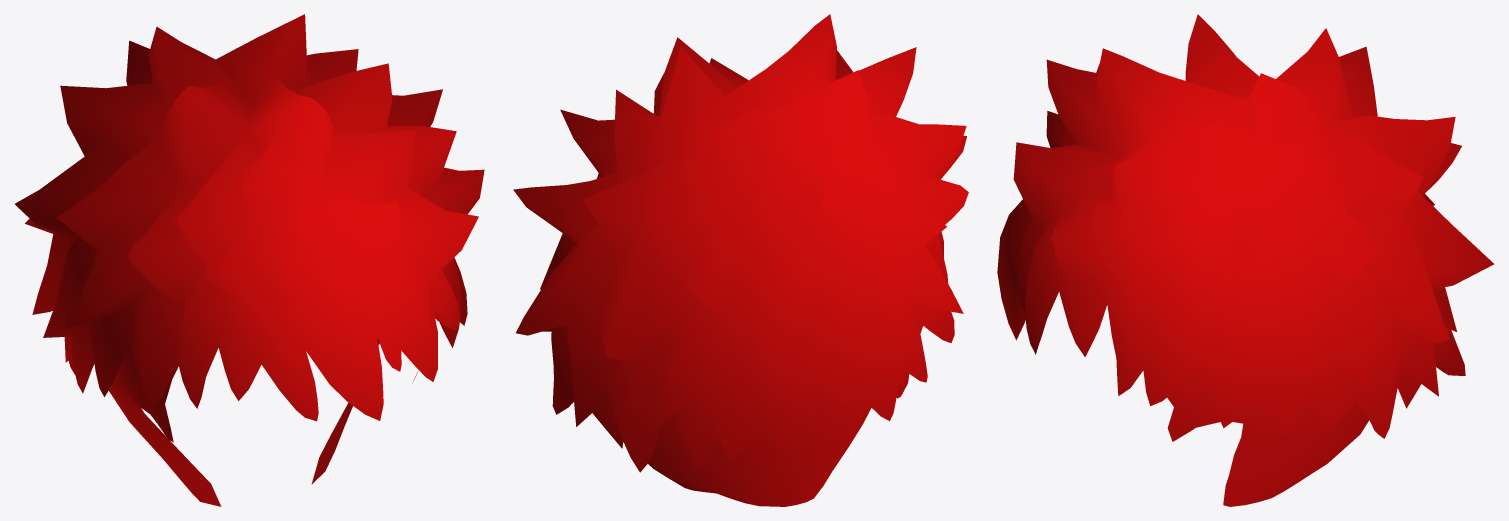
Rendered from HairBack_PineappleCut.glb.
3 views of the same model, side by side, from view 1: azimuth 30°, elevation 25°; view 2: azimuth 150°, elevation 25°; view 3: azimuth 270°, elevation 25° (orthographic). The views are drawn at different scales.
Visible parts, largest first — view 1: HairBack_PineappleCut; view 2: HairBack_PineappleCut; view 3: HairBack_PineappleCut.
Part boxes in pixels (x1,y1,x2,y2): HairBack_PineappleCut: [15, 14, 484, 506]; HairBack_PineappleCut: [513, 14, 968, 506]; HairBack_PineappleCut: [997, 14, 1494, 506].
Bounding box in the file's own units: 0.2801 × 0.3057 × 0.3143.
